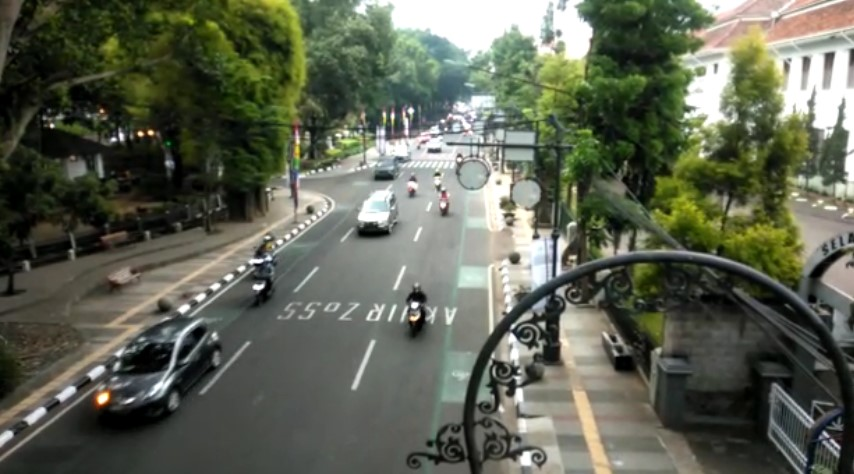mobil: (89, 318, 224, 417), (356, 188, 398, 238)
motor: (246, 258, 283, 307), (403, 285, 430, 337), (436, 188, 450, 213)
